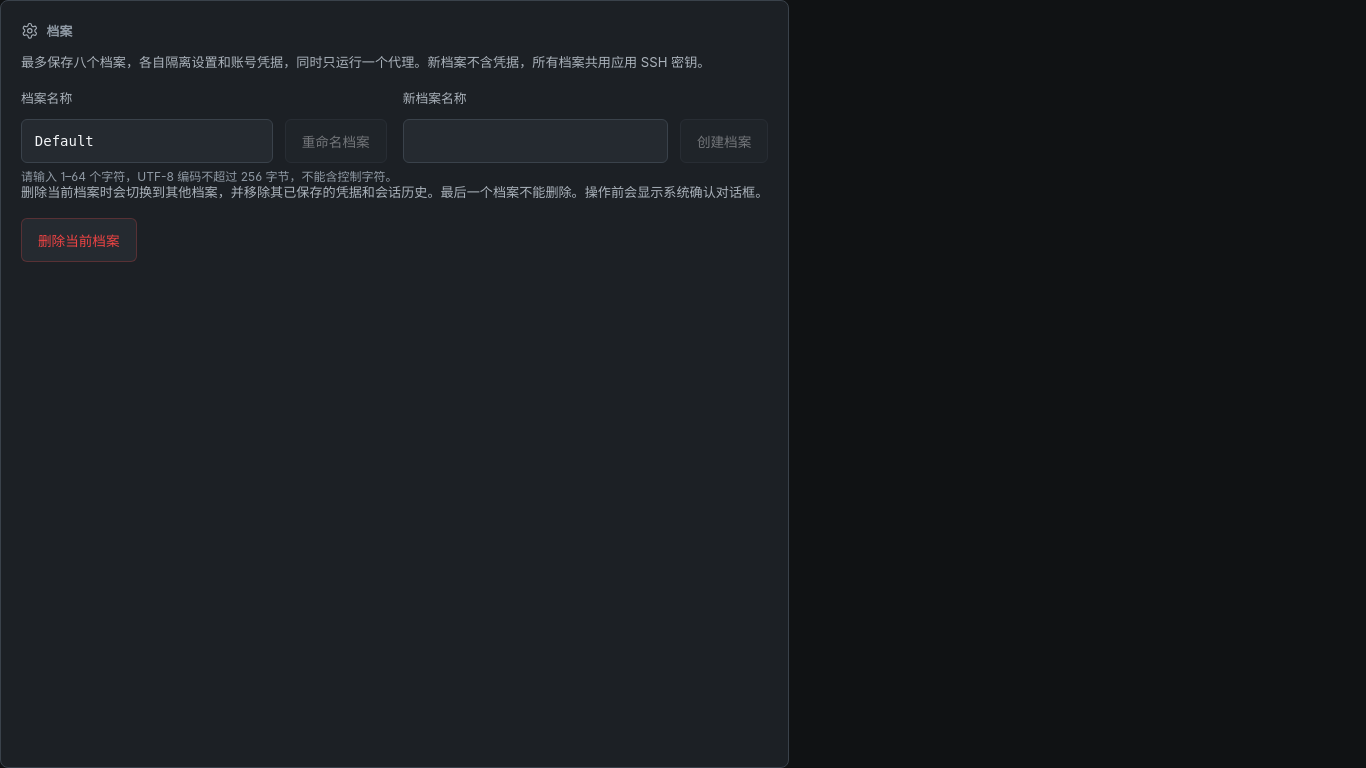
localizes profile controls and name validation in Chinese
Expected: the heading "档案" is shown, [21, 22, 72, 39]
Type "研究" into the field labelled "新档案名称" at [535, 141], box [403, 119, 668, 163]
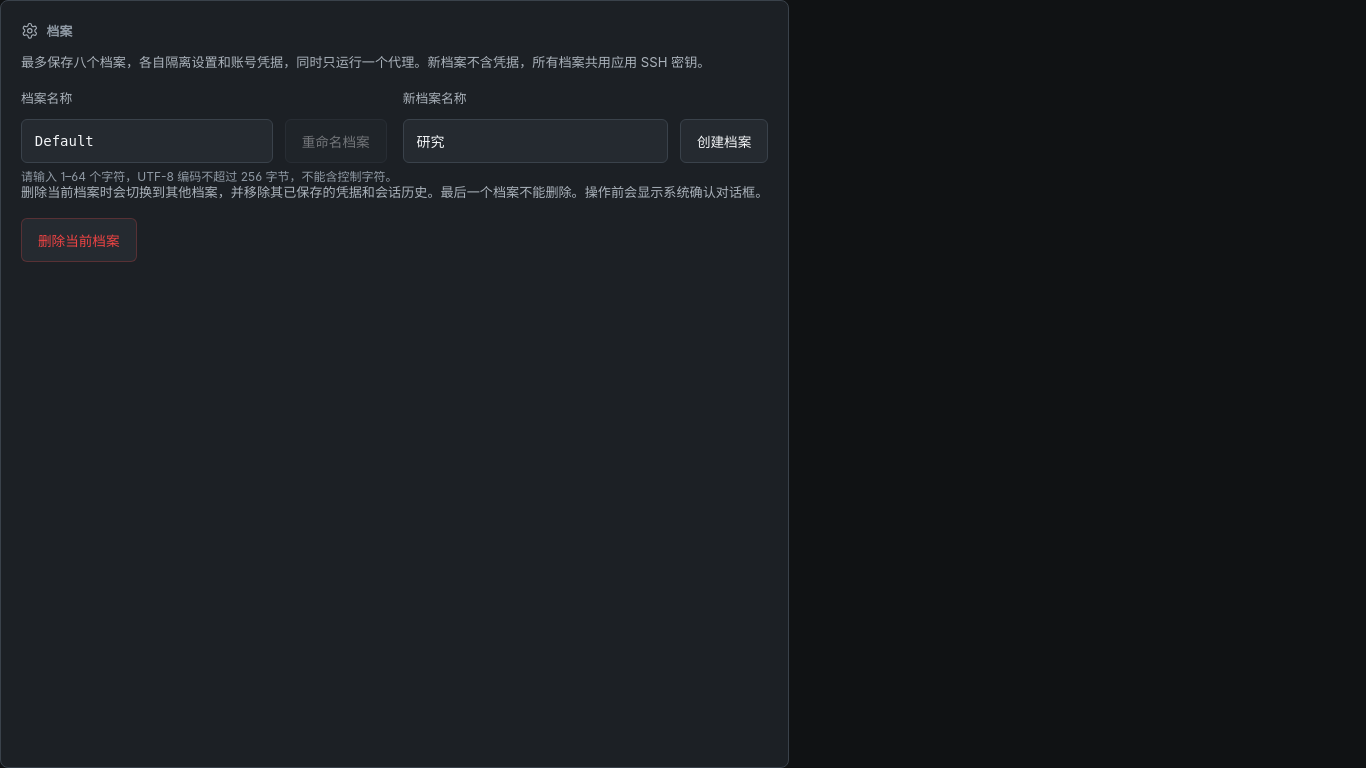
Click the button "创建档案" at [724, 141], box [680, 119, 768, 163]
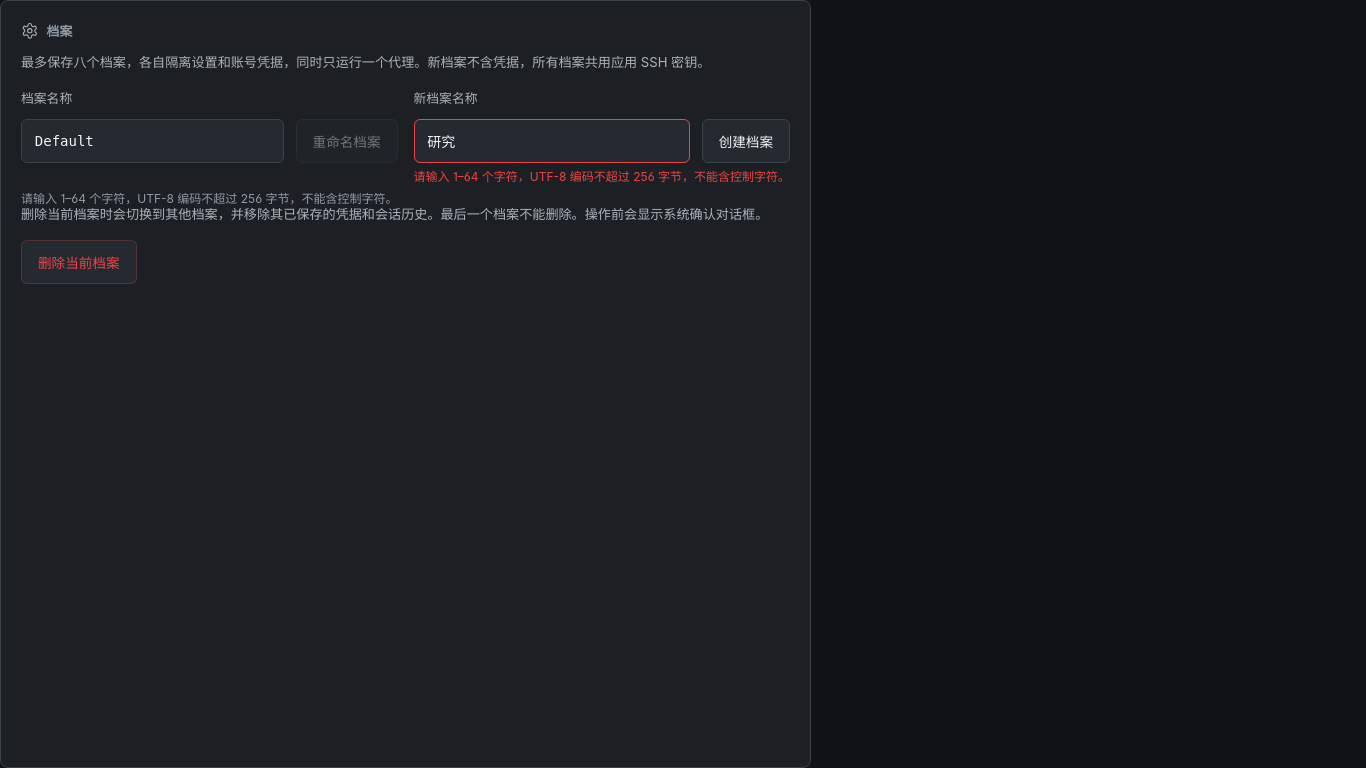
Expected: the message shows "请输入 1–64 个字符", [414, 169, 790, 184]
